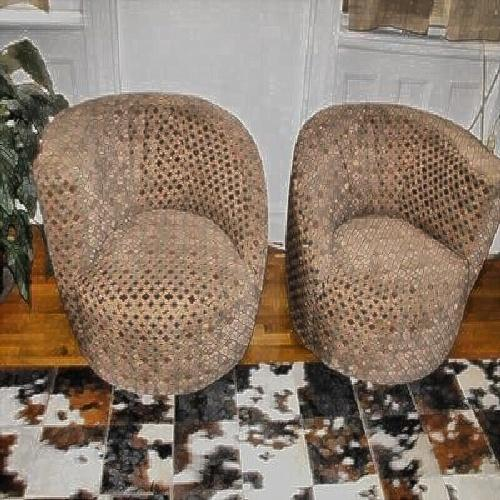chair: (44, 88, 272, 422), (292, 106, 492, 412)
